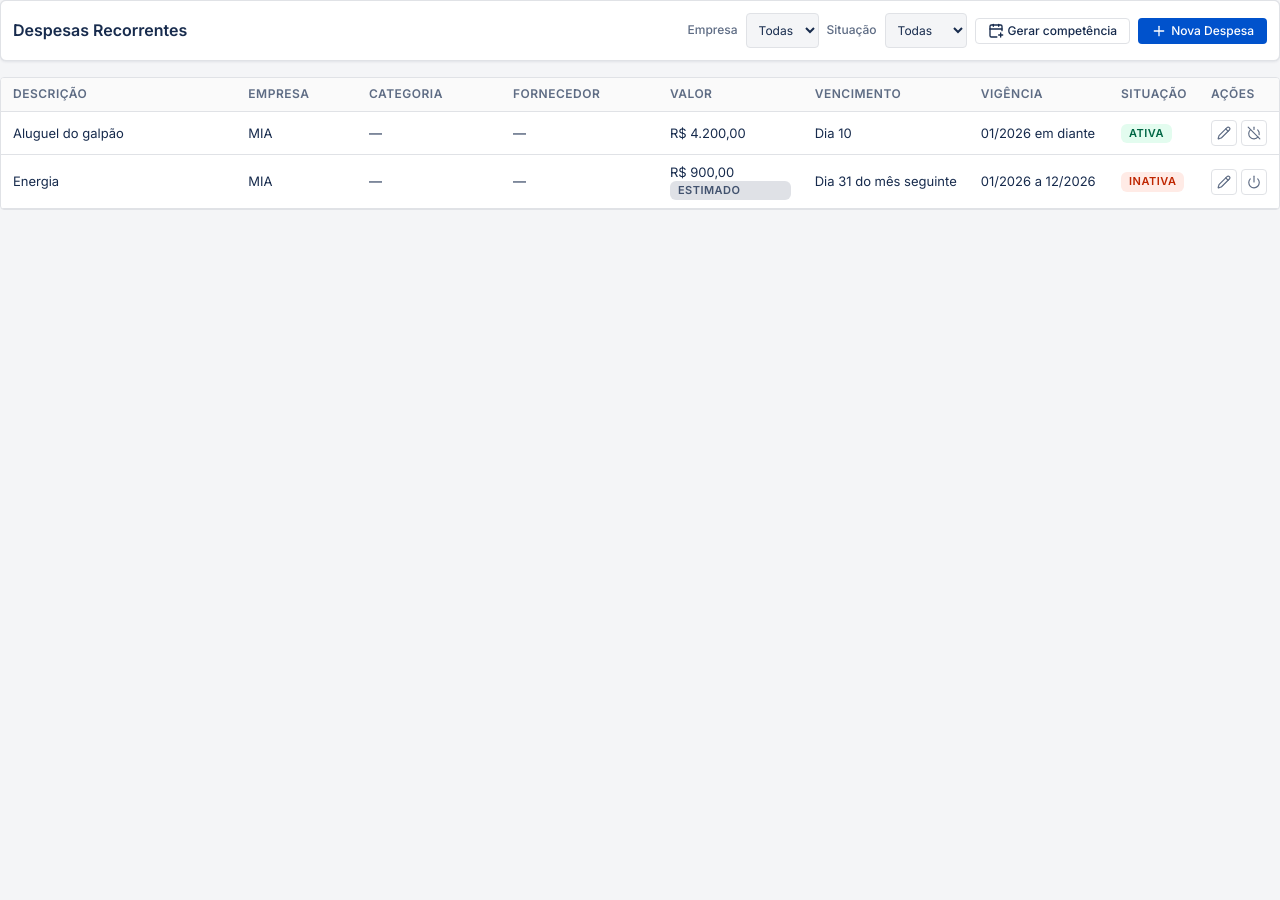
Scenario: DespesasRecorrentes › valida a descrição, o valor, a categoria, o dia e a vigência antes de criar
The width and height of the screenshot is (1280, 900).
Check: the text "Aluguel do galpão" is shown, box [1,111,236,154]
Step 1. Click the button "Nova Despesa" → point(1203, 30), box [1138,18,1267,44]
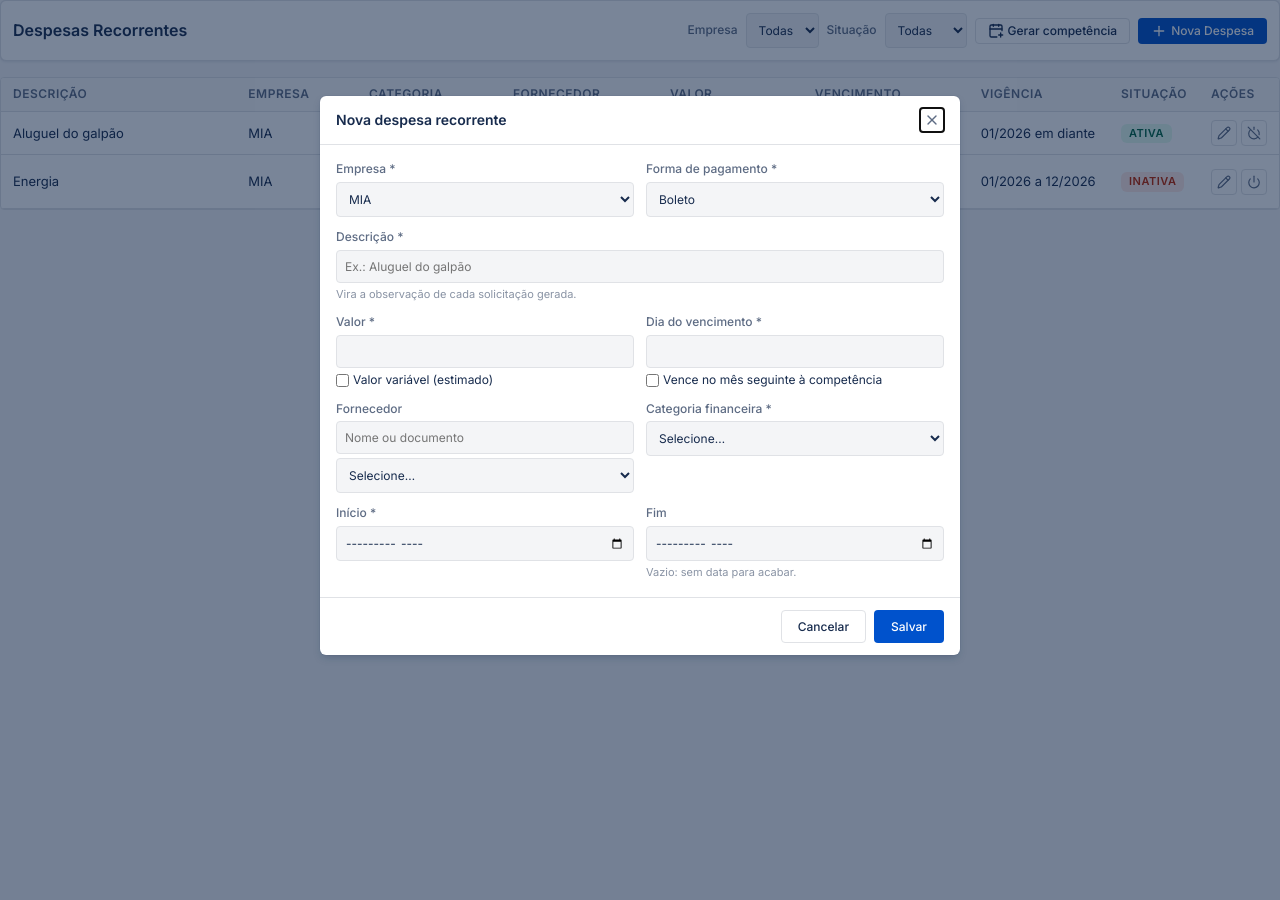
Step 2. Type "32" into the number field labelled "Dia do vencimento *" → point(795, 351), box [646,335,944,368]
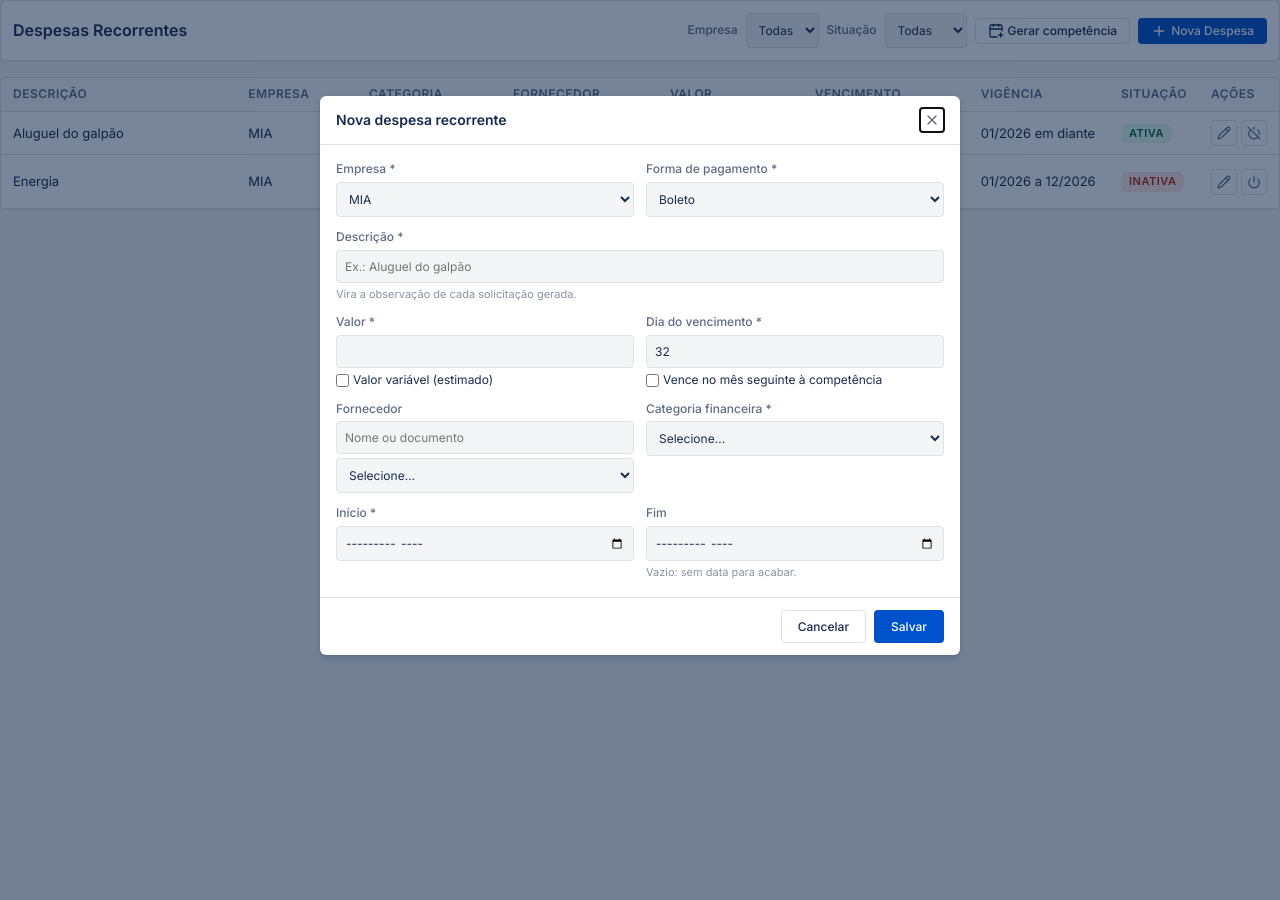
Step 3. Type "2026-05" into the field labelled "Início *" → point(485, 544), box [336,526,634,561]
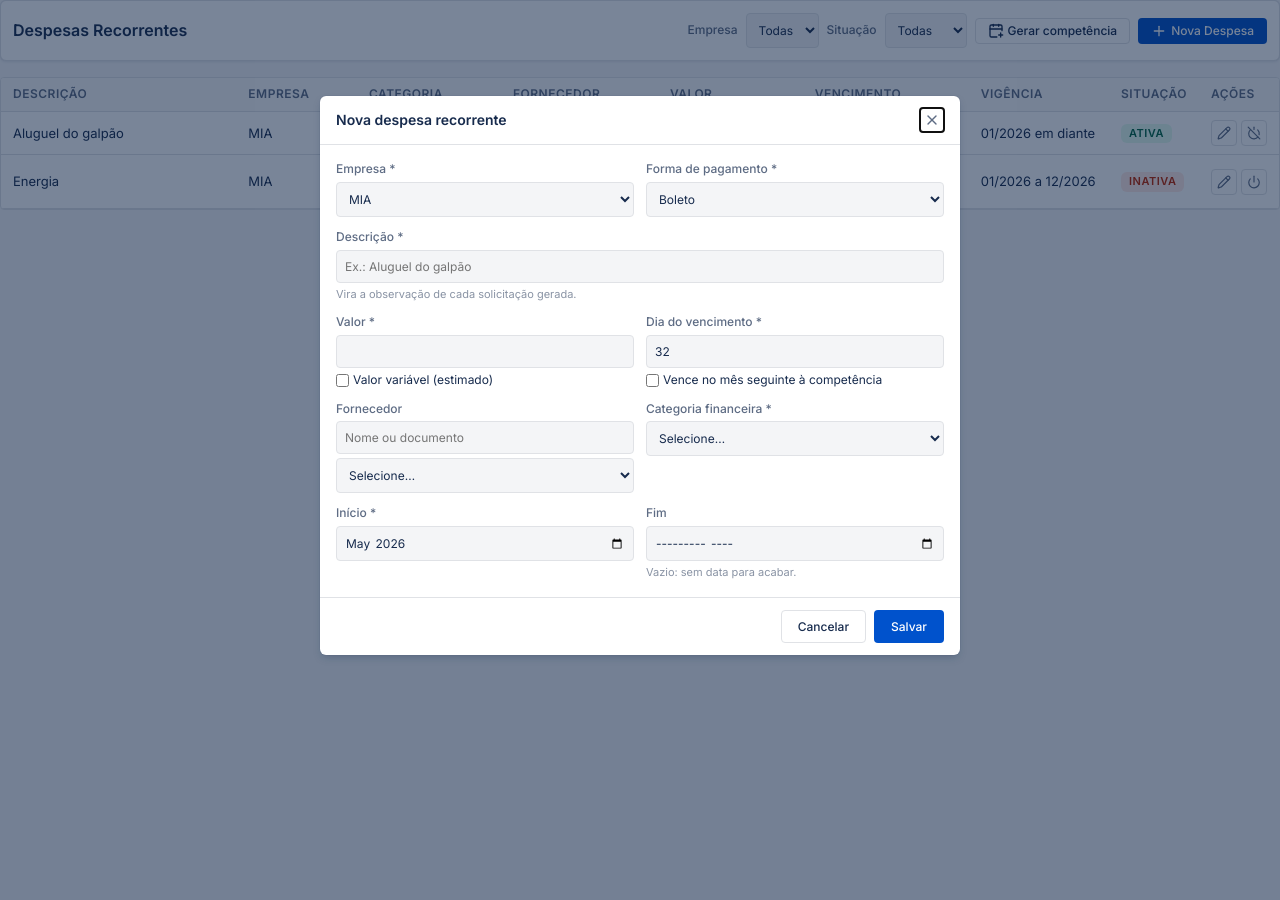
Step 4. Type "2026-04" into the field labelled "Fim" → point(795, 544), box [646,526,944,561]
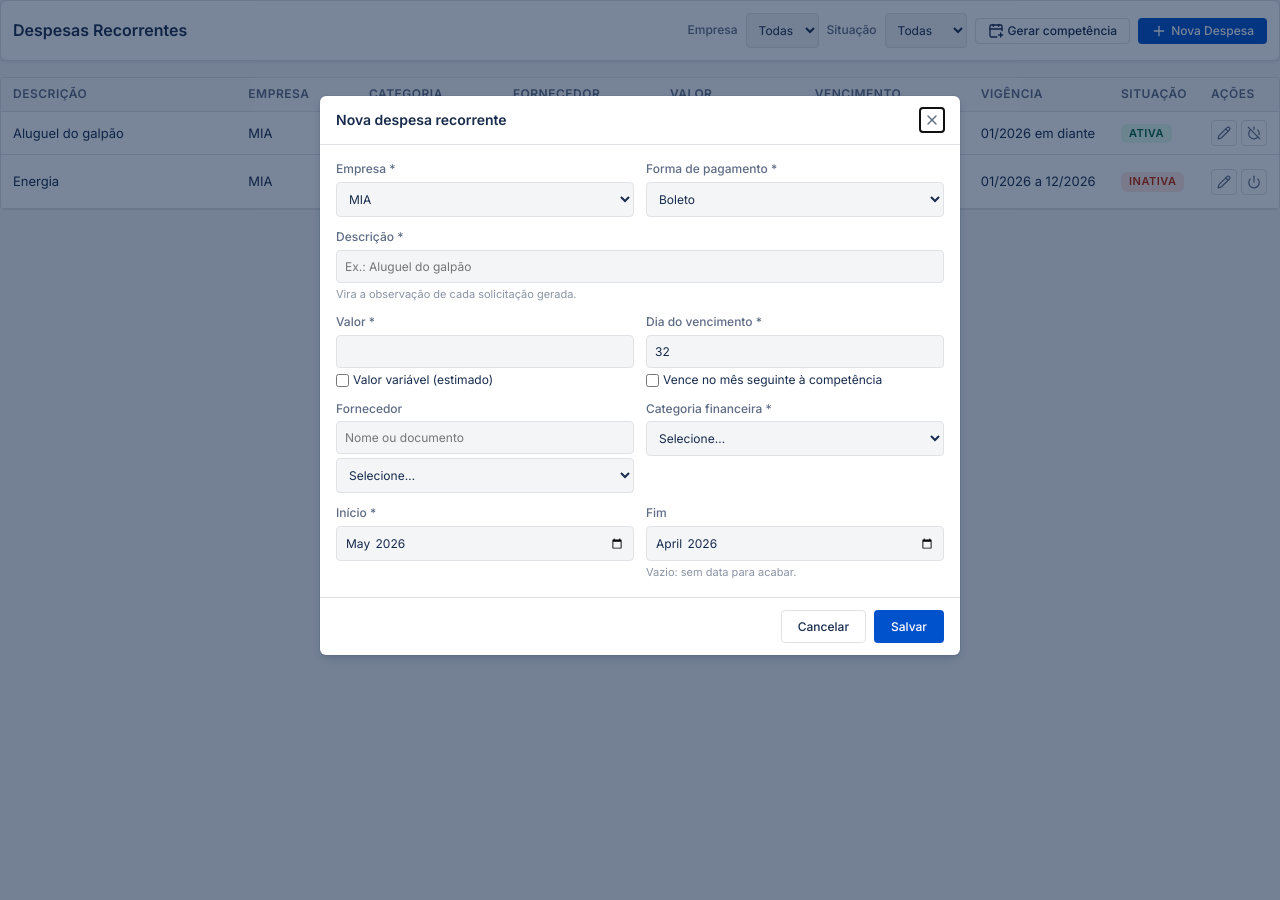
Step 5. Click the button "Salvar" → point(909, 626), box [874,610,944,643]
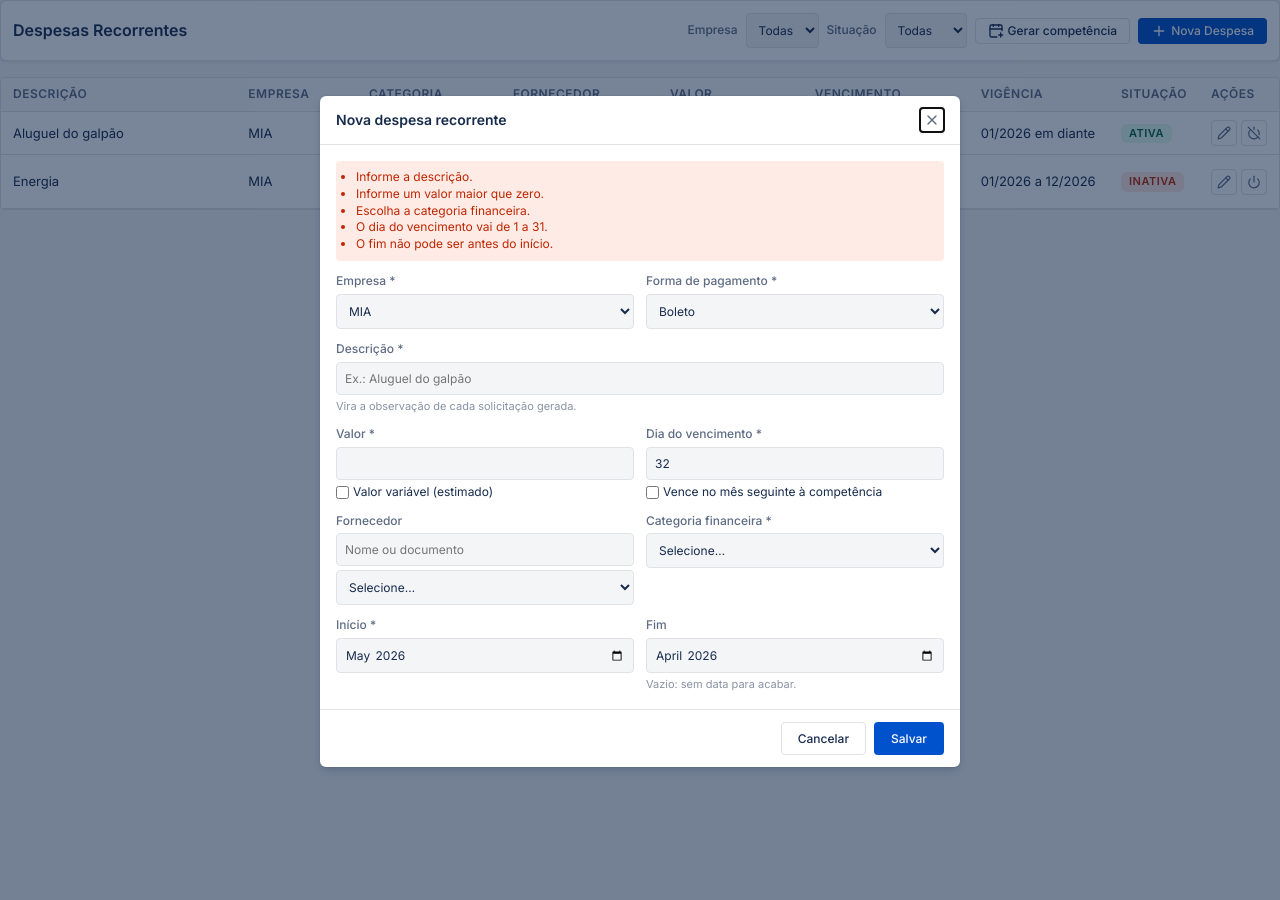
Check: the list item "Informe a descrição." is shown, box [356,169,473,184]
Check: the list item "Informe um valor maior que zero." is shown, box [356,186,544,201]
Check: the list item "Escolha a categoria financeira." is shown, box [356,203,530,218]
